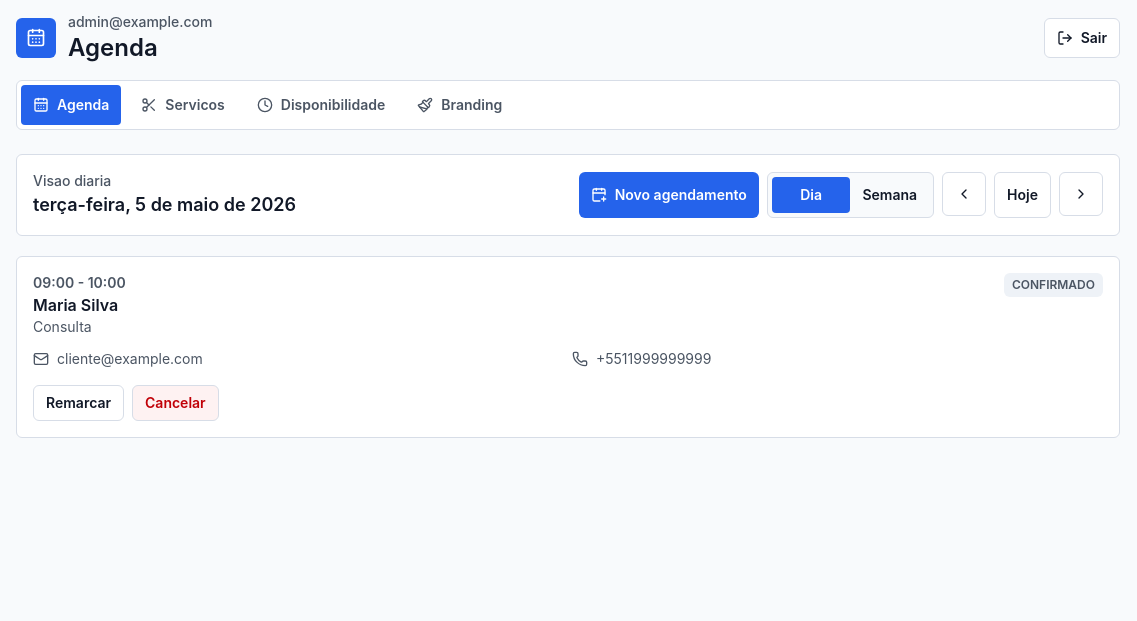
Test case: AdminCalendarPage › loads the weekly calendar grouped by day
What coordinates should you click on to do the following:
click the button "Semana"
I would click on:
 (890, 195)
Its box is 850,177 -> 929,213.
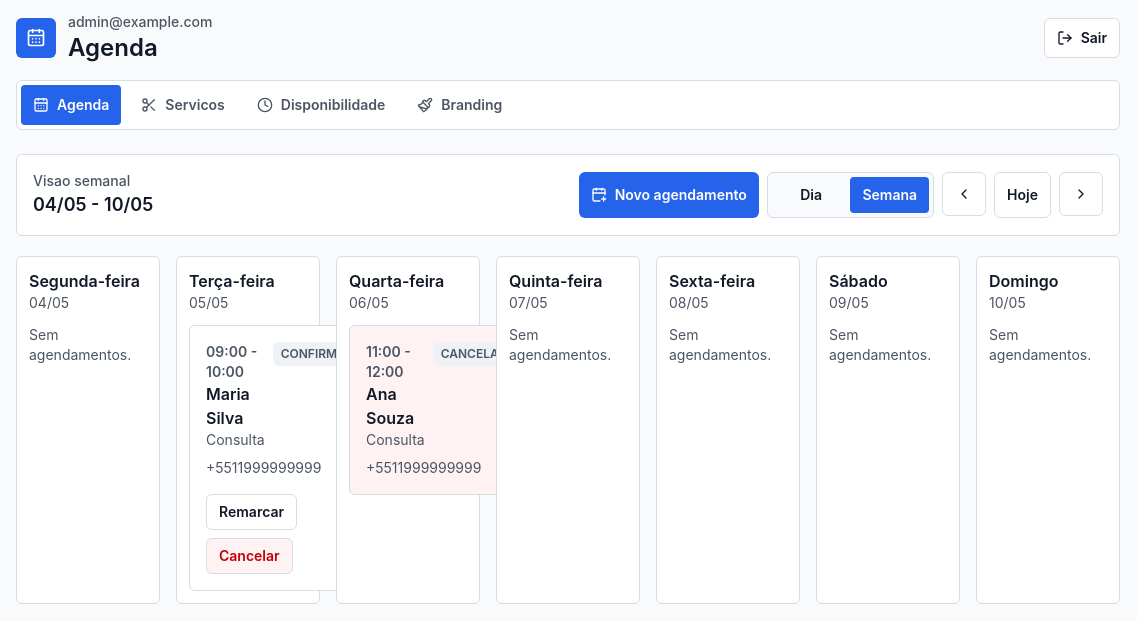
Check: the heading "Terça-feira" is shown, box 189,271 -> 275,291
Check: the heading "Quarta-feira" is shown, box 349,271 -> 444,291
Check: the heading "Ana Souza" is shown, box 366,384 -> 414,428
